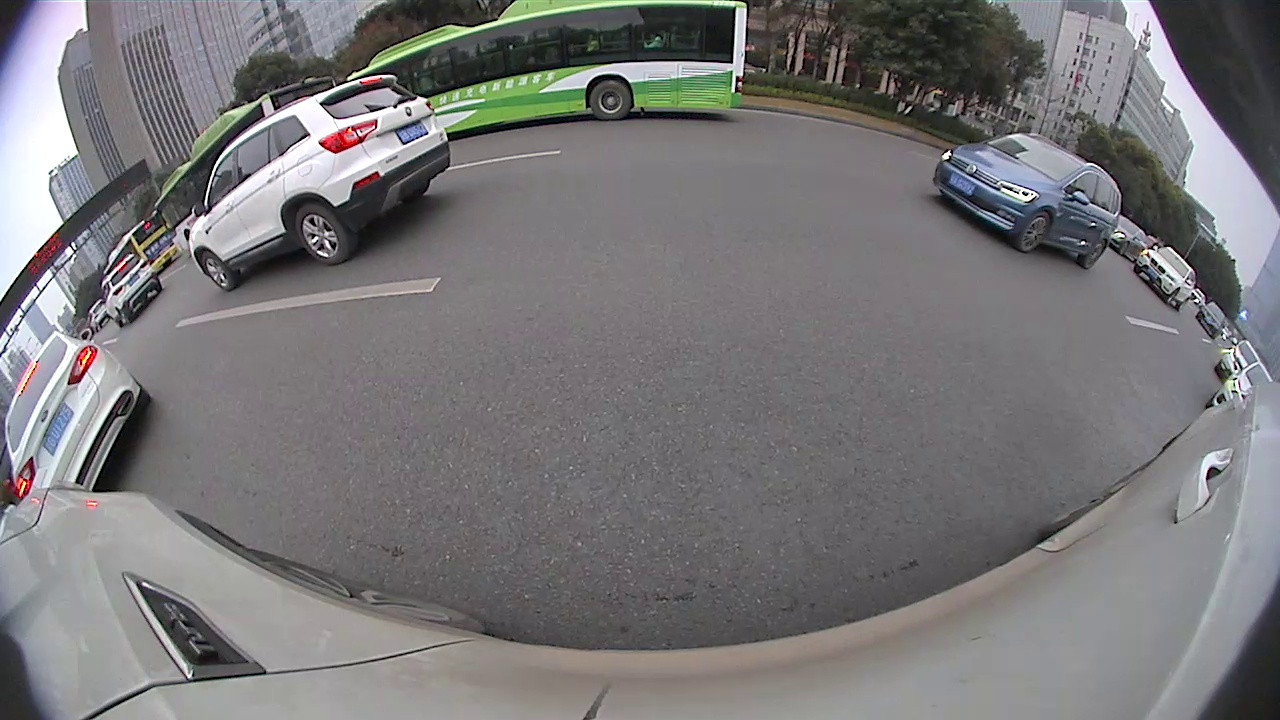bus: (340, 2, 750, 136), (150, 72, 340, 258)
car: (183, 70, 453, 290), (930, 131, 1125, 272), (4, 326, 154, 501), (95, 251, 165, 324), (1137, 245, 1200, 312)
front: (199, 248, 236, 293), (1015, 211, 1052, 254)
rear: (292, 201, 352, 266), (588, 77, 632, 121), (1083, 237, 1107, 270)
